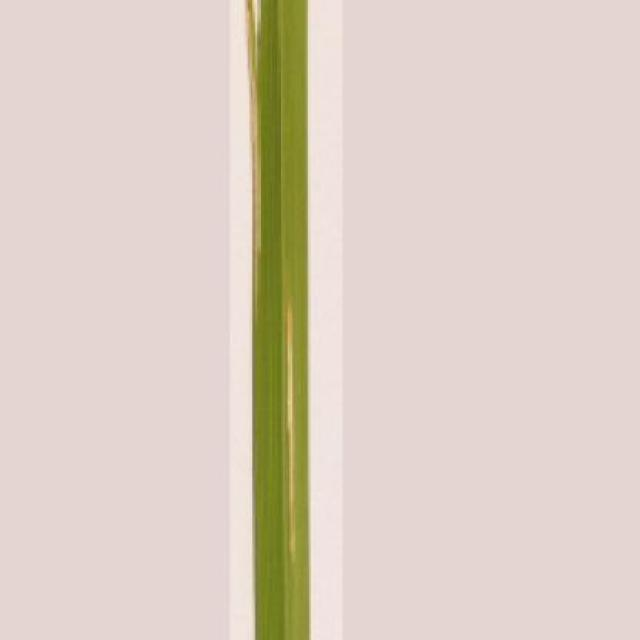Brown_Spot: (242, 0, 313, 640)
